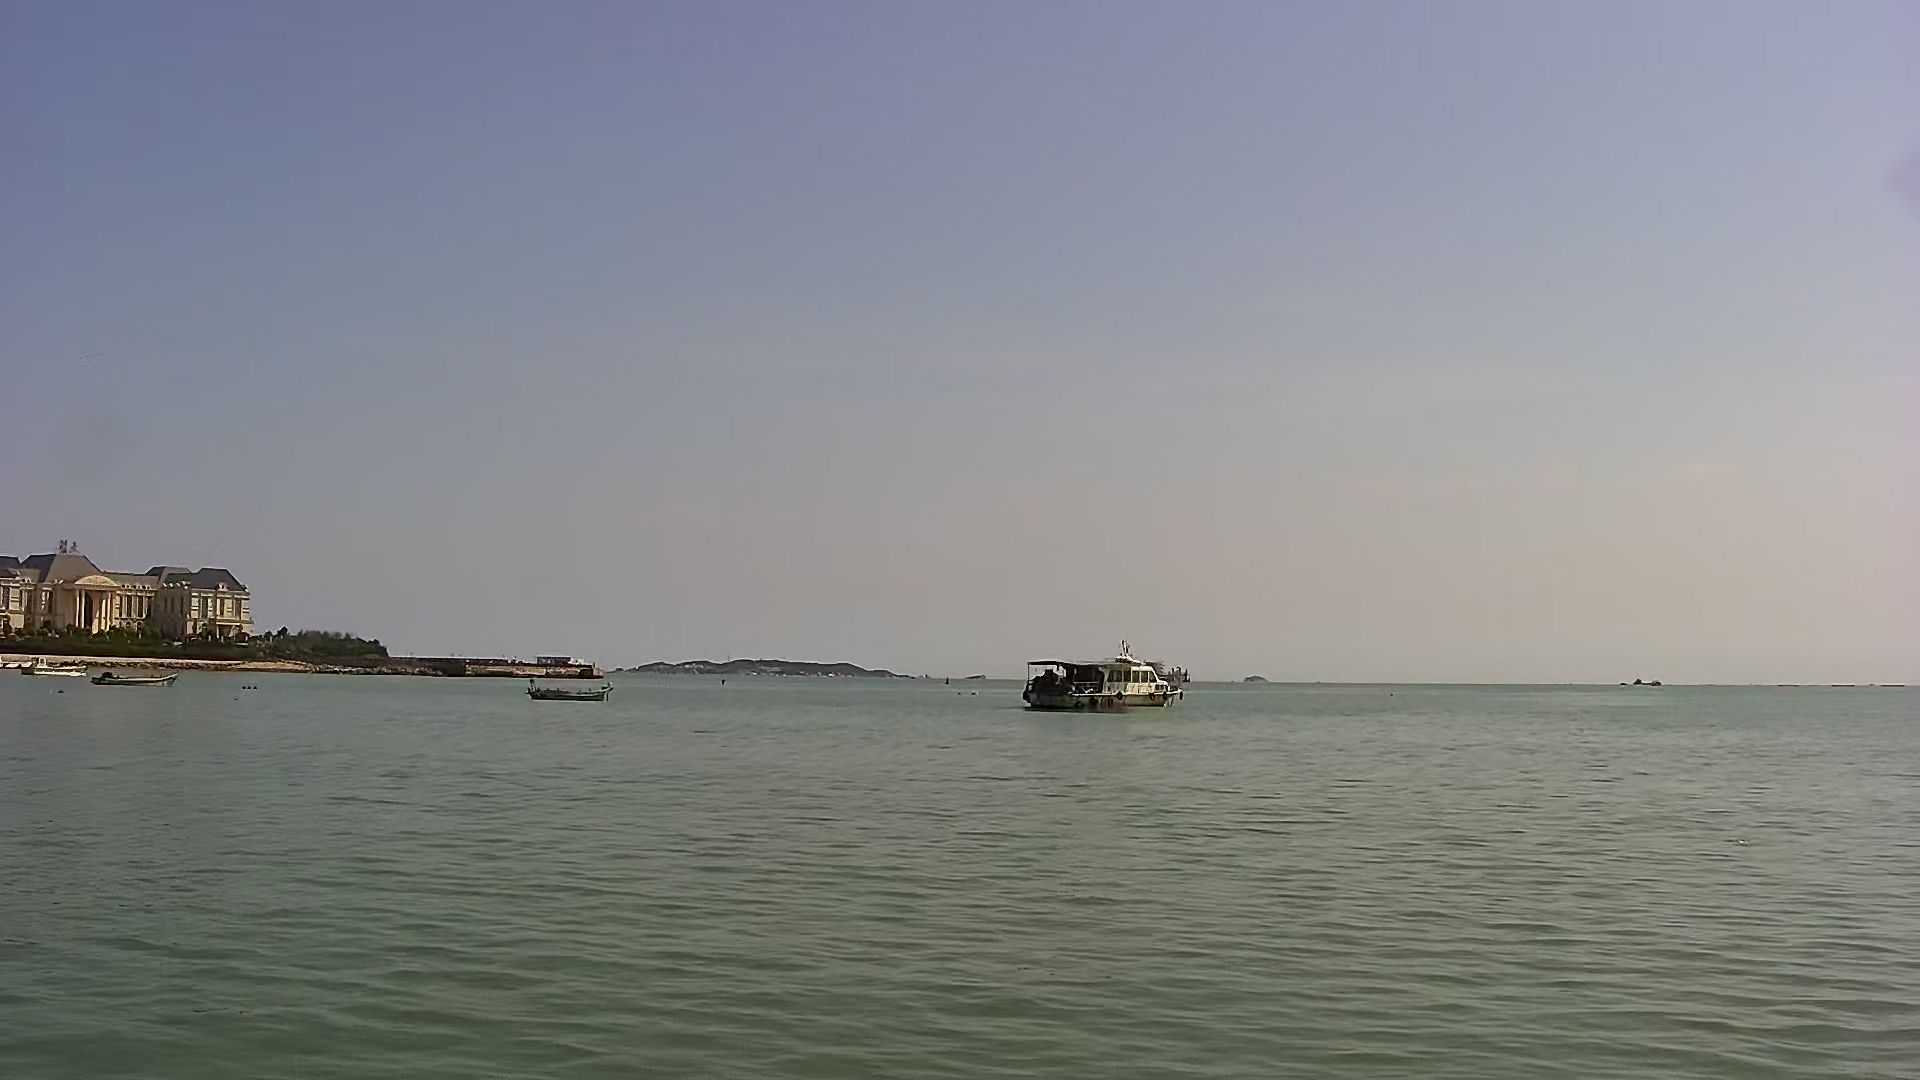boat: (516, 676, 618, 705), (98, 665, 189, 694), (22, 654, 95, 682)
ship: (1018, 641, 1185, 715)
